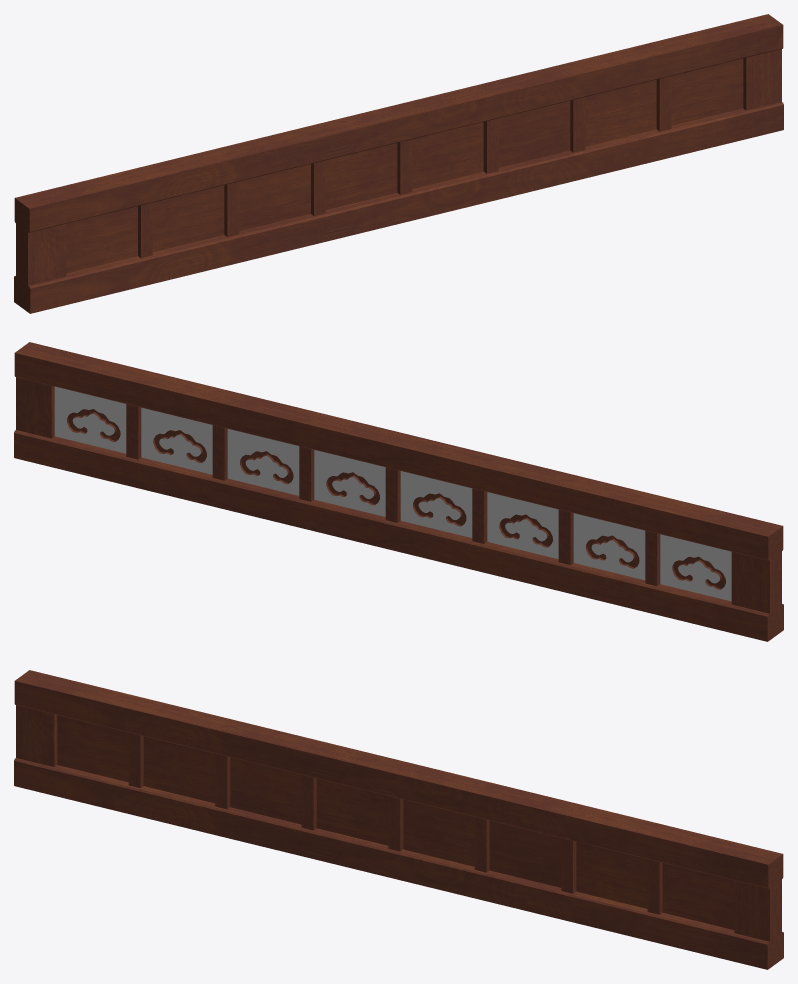
File: SM_WindoSill23Bb.fbx
3 renders of one model, top to bottom at view 1: azimuth 30°, elevation 25°; view 2: azimuth 150°, elevation 25°; view 3: azimuth 330°, elevation 25°, orthographic.
Visible parts, largest first — view 1: SM_WindoSill23Bb; view 2: SM_WindoSill23Bb; view 3: SM_WindoSill23Bb.
Part boxes in pixels (x1,y1,x2,y2): SM_WindoSill23Bb: [14, 14, 783, 313]; SM_WindoSill23Bb: [14, 342, 783, 641]; SM_WindoSill23Bb: [14, 670, 783, 969].
Size of the model in its own units: 429 by 15.95 by 56.86.
